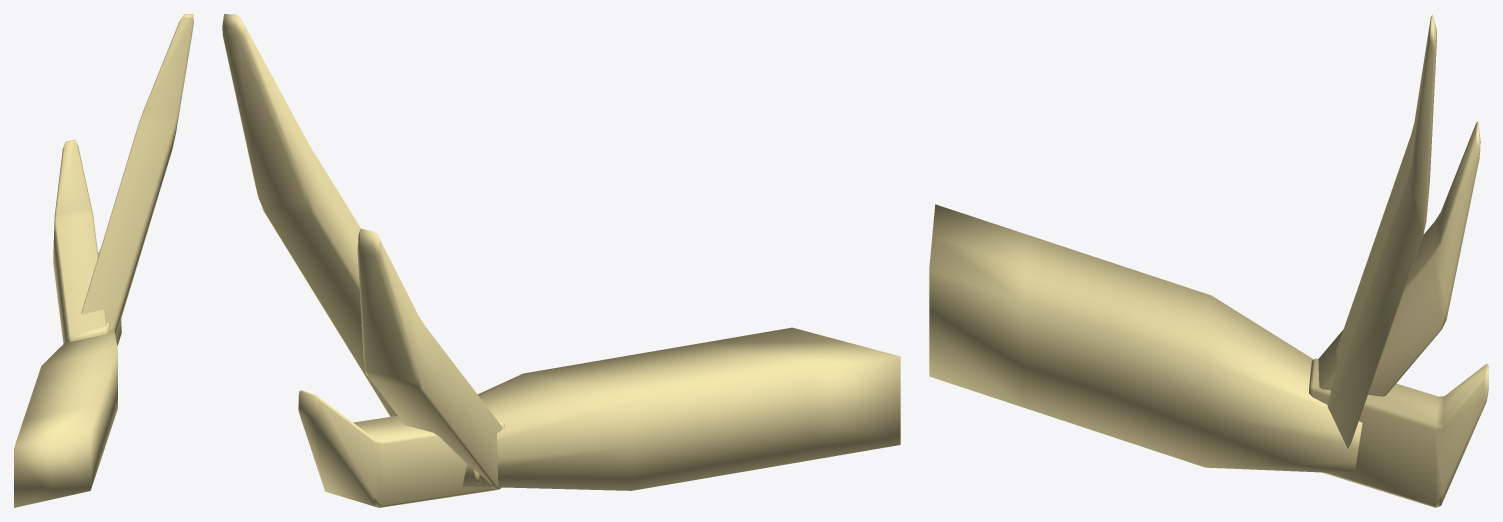
Rendered from item-wheat.glb.
3 views of the same model, side by side, from view 1: azimuth 30°, elevation 25°; view 2: azimuth 150°, elevation 25°; view 3: azimuth 270°, elevation 25° (orthographic). The views are drawn at different scales.
Size of the model in its own units: 4.38 by 4.17 by 3.73.
